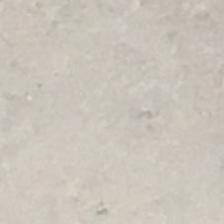Non_Crack: (31, 36, 205, 185)
